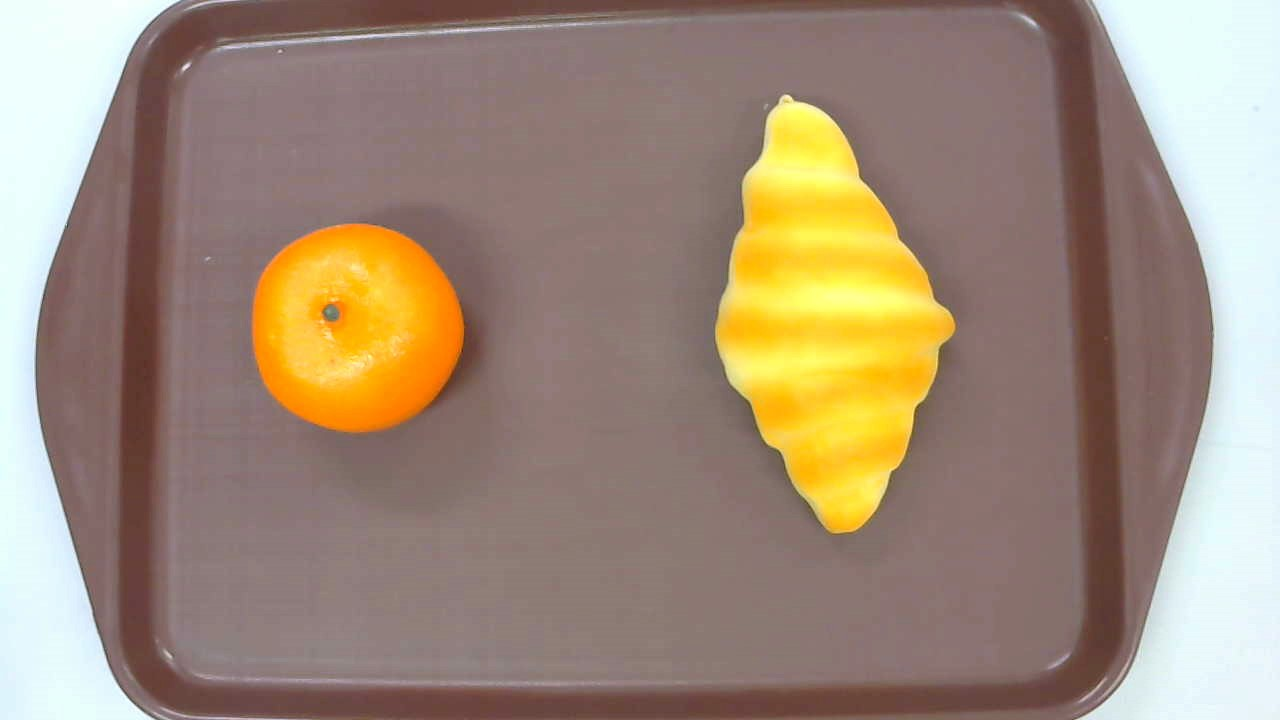croissant: (711, 94, 955, 535)
orange: (252, 223, 465, 434)
